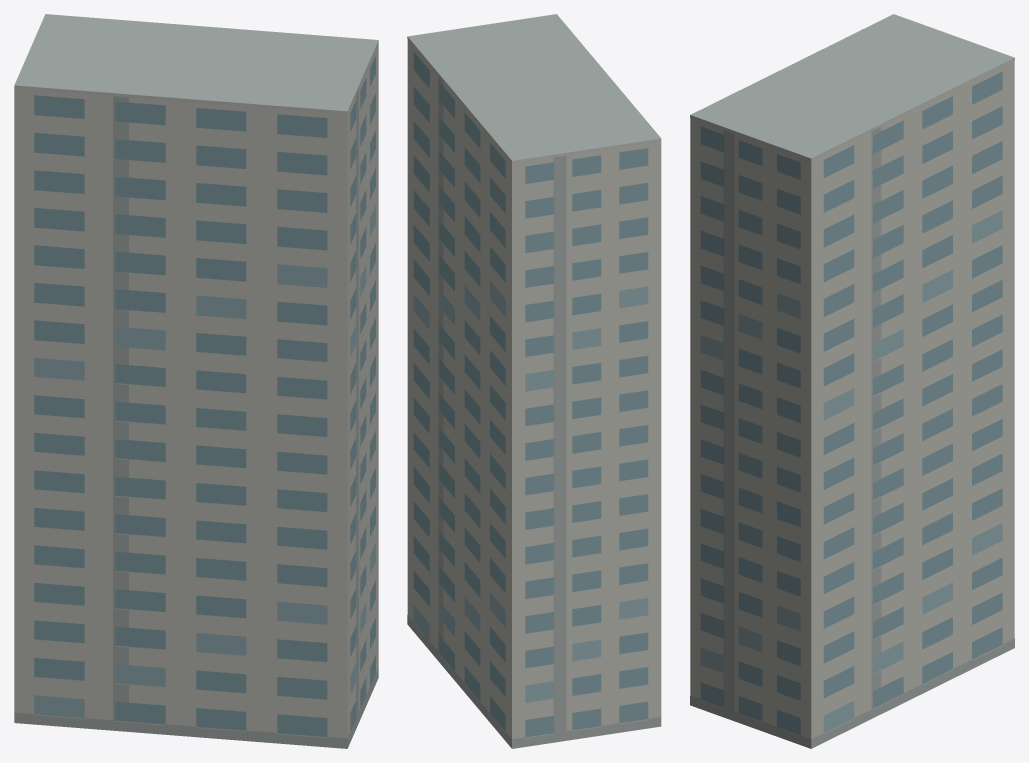
The model's file is residential-8278f612-c933-4228-83db-d69c8e288307.glb.
3 views of the same model, side by side, from view 1: azimuth 30°, elevation 25°; view 2: azimuth 150°, elevation 25°; view 3: azimuth 270°, elevation 25° (orthographic). The views are drawn at different scales.
Parts seen in each view (by area): view 1: residential-8278f612-c933-4228-83db-d69c8e288307.tmp; view 2: residential-8278f612-c933-4228-83db-d69c8e288307.tmp; view 3: residential-8278f612-c933-4228-83db-d69c8e288307.tmp.
Part boxes in pixels (bbox=[...]): residential-8278f612-c933-4228-83db-d69c8e288307.tmp: bbox=[14, 14, 378, 748]; residential-8278f612-c933-4228-83db-d69c8e288307.tmp: bbox=[407, 14, 661, 748]; residential-8278f612-c933-4228-83db-d69c8e288307.tmp: bbox=[690, 14, 1014, 748].
Size of the model in its own units: 27.23 by 51.85 by 25.85.
